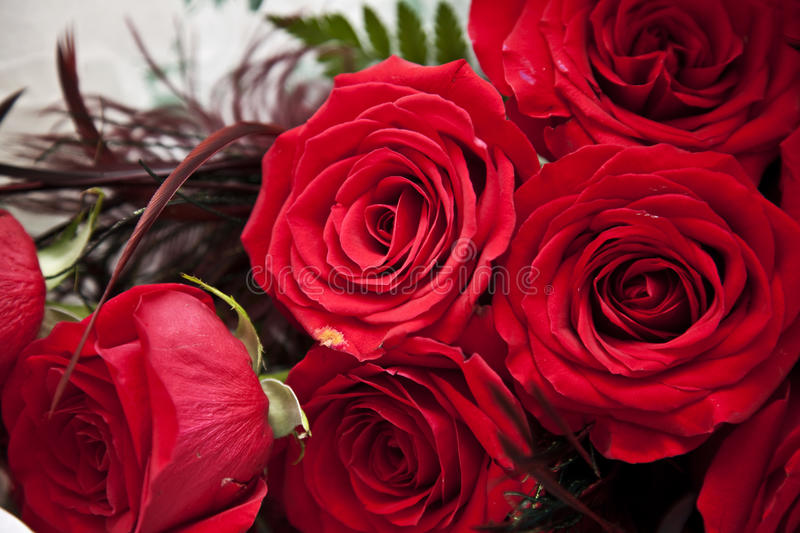RedRose: (518, 180, 797, 391), (273, 70, 484, 313), (286, 339, 533, 529), (472, 9, 780, 153), (51, 301, 246, 490)
